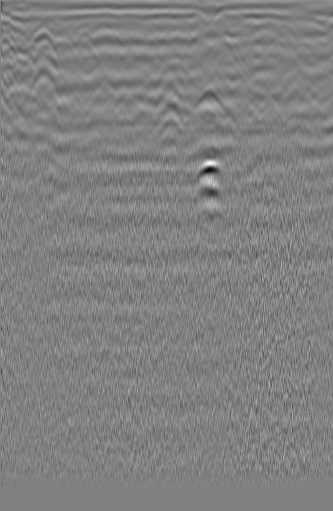가스: (191, 156, 225, 193)
상수: (285, 41, 318, 67)
오수: (22, 23, 60, 55)
우수: (144, 36, 182, 57)
